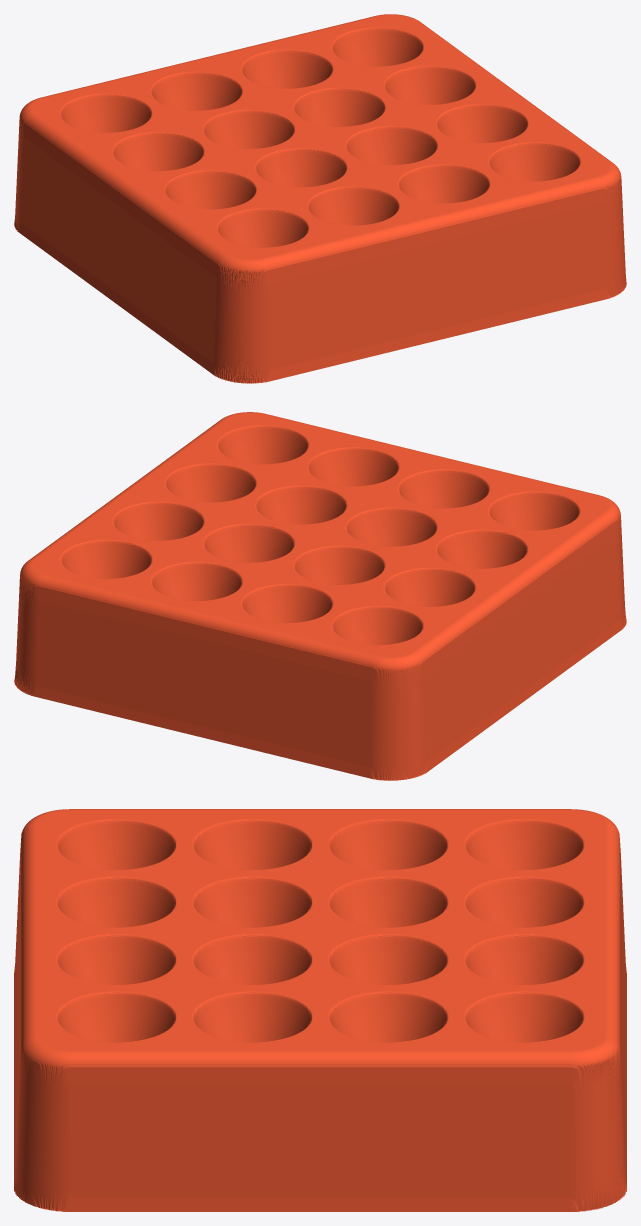
The model's file is mold.glb.
3 renders of one model, top to bottom at view 1: azimuth 30°, elevation 25°; view 2: azimuth 150°, elevation 25°; view 3: azimuth 270°, elevation 25°, orthographic. The views are drawn at different scales.
Visible parts, largest first — view 1: geometry_0; view 2: geometry_0; view 3: geometry_0.
Part boxes in pixels (left/top/right/bottom): geometry_0: left=14, top=14, right=626, bottom=383; geometry_0: left=14, top=412, right=626, bottom=780; geometry_0: left=14, top=809, right=626, bottom=1211.
Bounding box in the file's own units: 0.0992 × 0.0271 × 0.0992.
